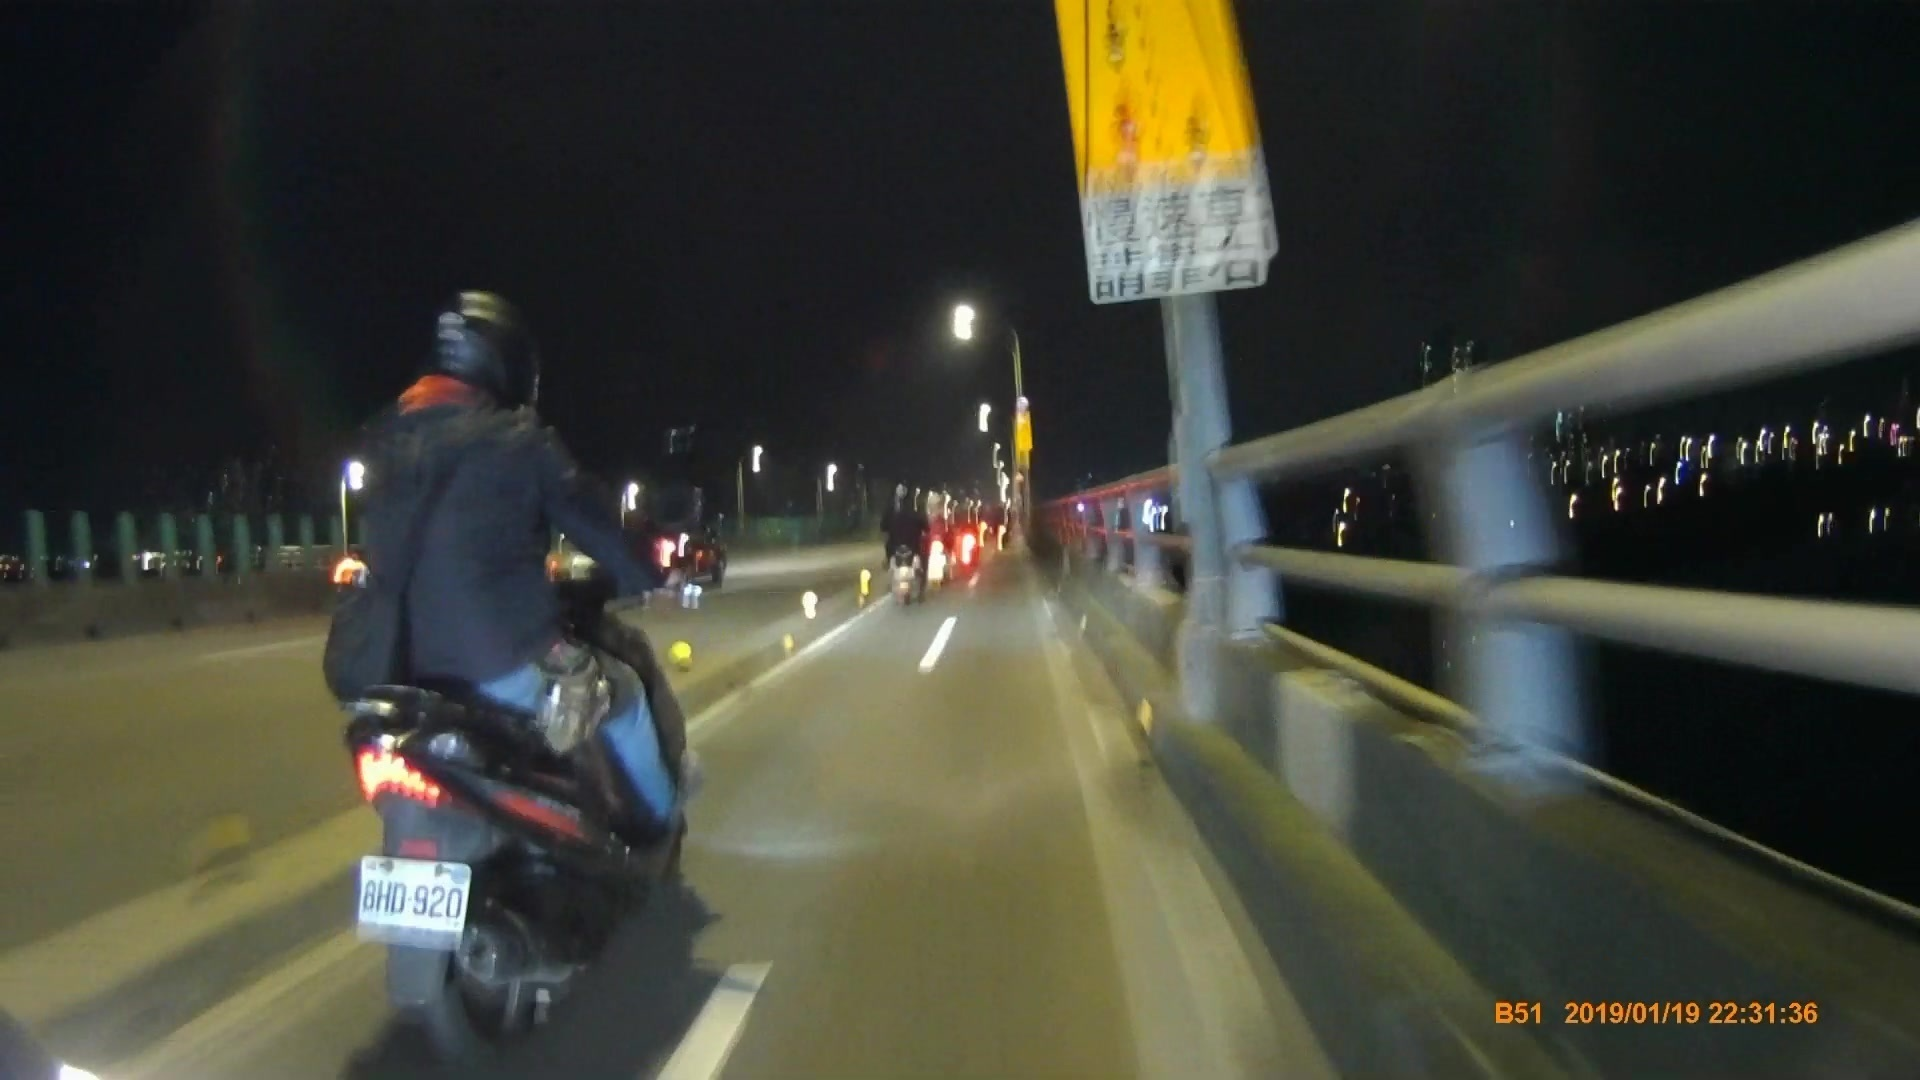License_plate: (361, 848, 470, 931)
